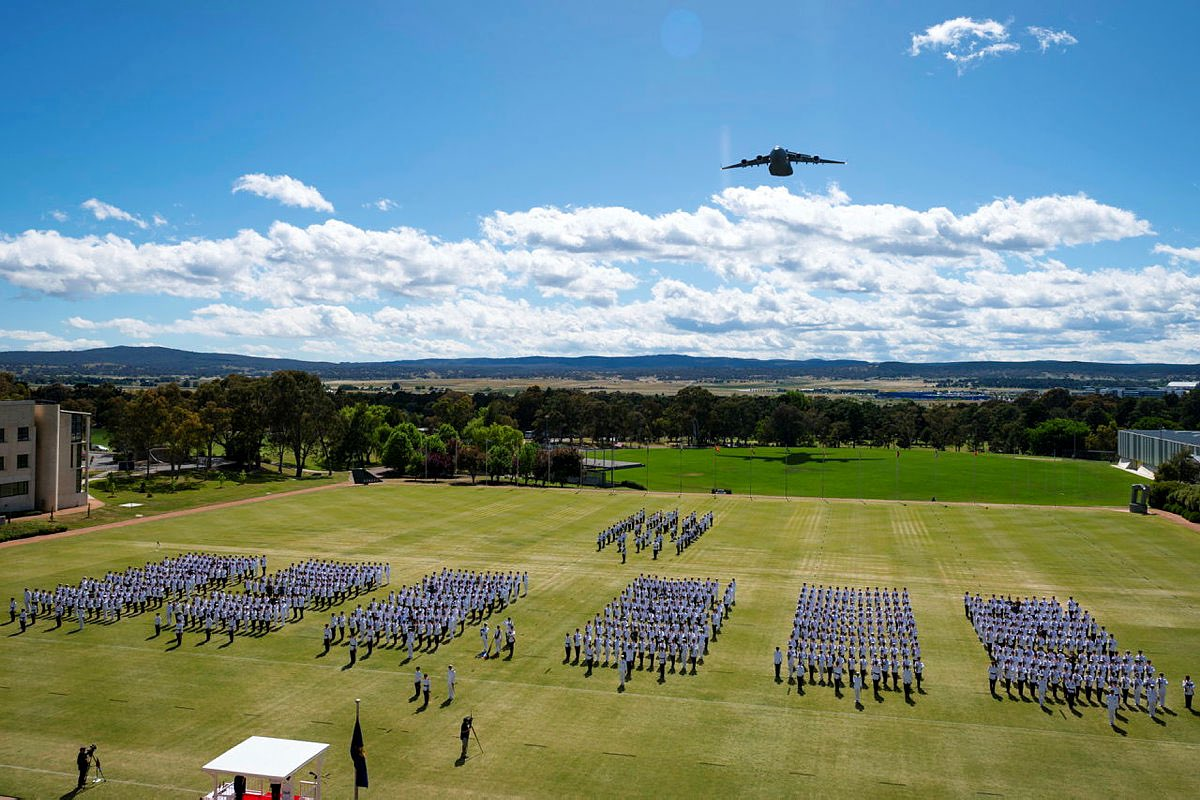airplane: (719, 144, 849, 177)
